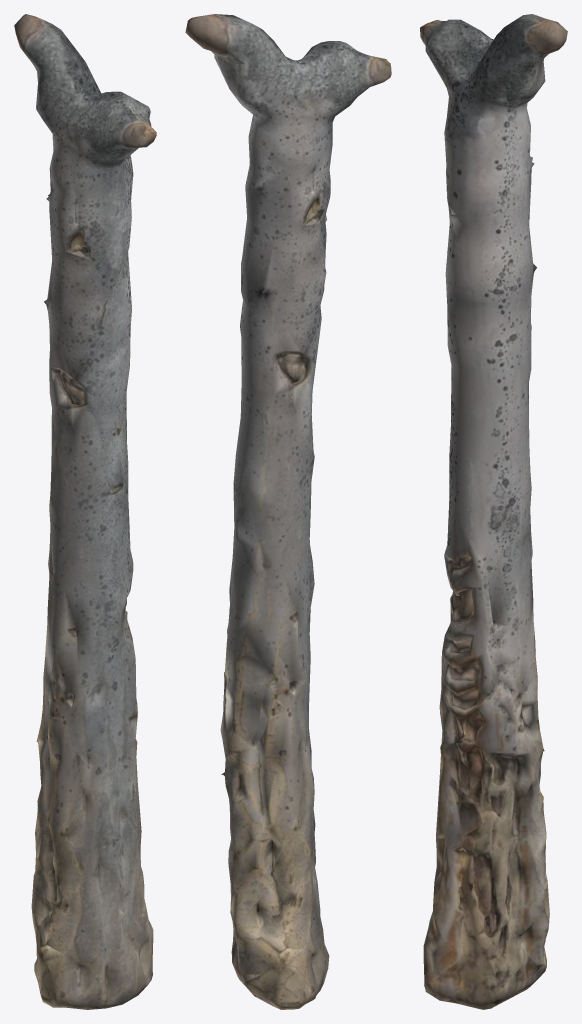
File: dead_quiver_trunk.glb
3 renders of one model, left to right at view 1: azimuth 90°, elevation 25°; view 2: azimuth 150°, elevation 25°; view 3: azimuth 270°, elevation 25°, orthographic. The views are drawn at different scales.
Parts seen in each view (by area): view 1: dead_quiver_trunk_LOD0; view 2: dead_quiver_trunk_LOD0; view 3: dead_quiver_trunk_LOD0.
Boxes of the visible parts, bbox=[...] form: dead_quiver_trunk_LOD0: bbox=[14, 14, 156, 1009]; dead_quiver_trunk_LOD0: bbox=[185, 14, 391, 1009]; dead_quiver_trunk_LOD0: bbox=[420, 14, 567, 1009].
Size of the model in its own units: 0.3053 by 1.99 by 0.268.
1 material, 1 textured.
